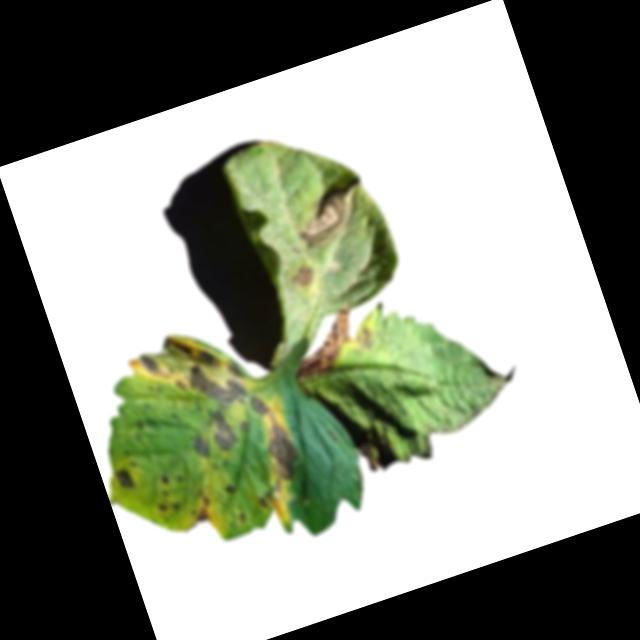Early_blight: (123, 315, 253, 435), (280, 300, 369, 382), (281, 175, 373, 254), (253, 412, 307, 487), (201, 405, 239, 454), (187, 489, 216, 528), (109, 463, 136, 493), (245, 392, 272, 420), (288, 262, 315, 288), (157, 495, 184, 517), (190, 434, 211, 459), (221, 480, 236, 495), (157, 472, 171, 487), (257, 496, 270, 511), (238, 418, 251, 432)
